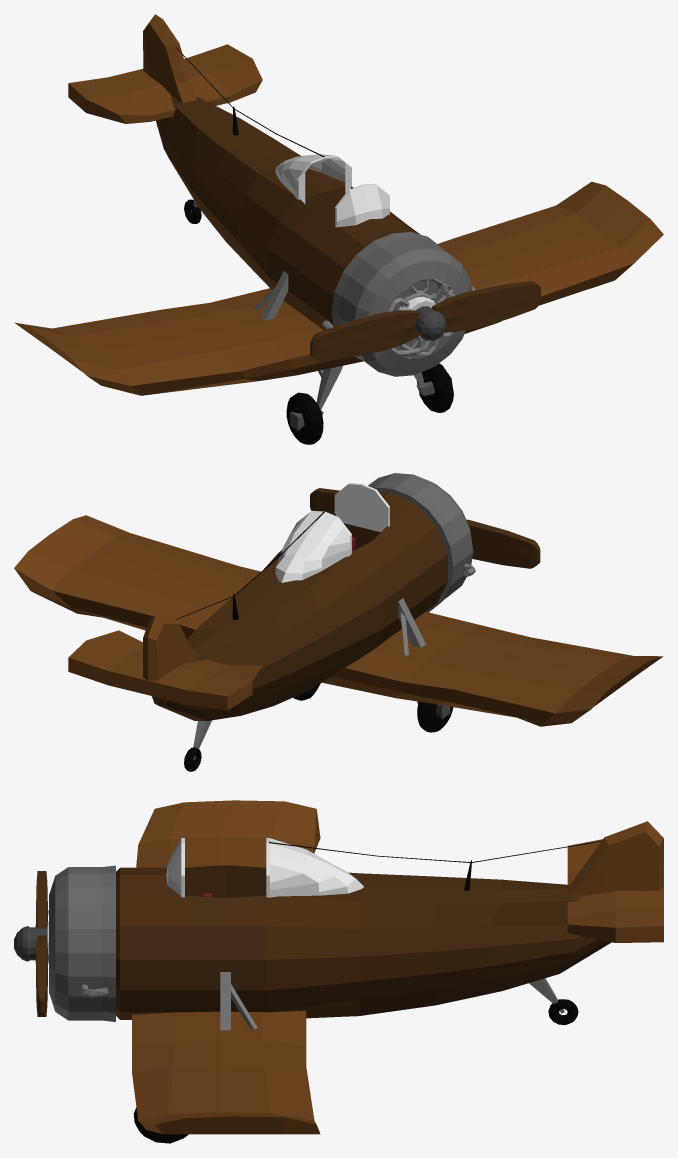
The picture shows the model from 3 angles, top to bottom: view 1: azimuth 30°, elevation 25°; view 2: azimuth 150°, elevation 25°; view 3: azimuth 270°, elevation 25°; orthographic projection. The views are drawn at different scales.
Parts seen in each view (by area): view 1: plane_LOD0; view 2: plane_LOD0; view 3: plane_LOD0.
Boxes of the visible parts, x1,y1,x2,y2 form: plane_LOD0: (14,14,663,444); plane_LOD0: (14,473,663,771); plane_LOD0: (14,800,663,1143).
Size of what is drawn, in the model's own units: 853 by 360 by 741.
